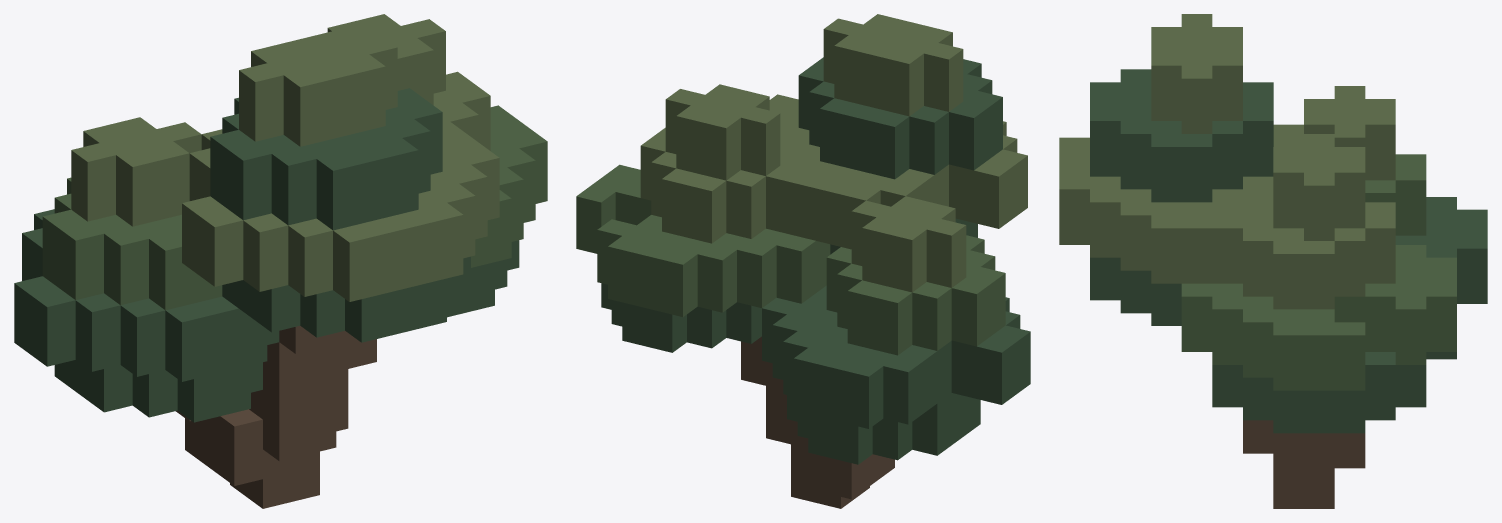
The model's file is elderberry_young_summer.glb.
The picture shows the model from 3 angles, left to right: view 1: azimuth 30°, elevation 25°; view 2: azimuth 150°, elevation 25°; view 3: azimuth 270°, elevation 25°; orthographic projection. The views are drawn at different scales.
Visible parts, largest first — view 1: VoxelVisual; view 2: VoxelVisual; view 3: VoxelVisual.
Boxes of the visible parts, bbox=[...] form: VoxelVisual: bbox=[14, 14, 547, 508]; VoxelVisual: bbox=[576, 14, 1030, 508]; VoxelVisual: bbox=[1059, 14, 1487, 508].
Size of what is drawn, in the model's own units: 1.06 by 1 by 0.875.
